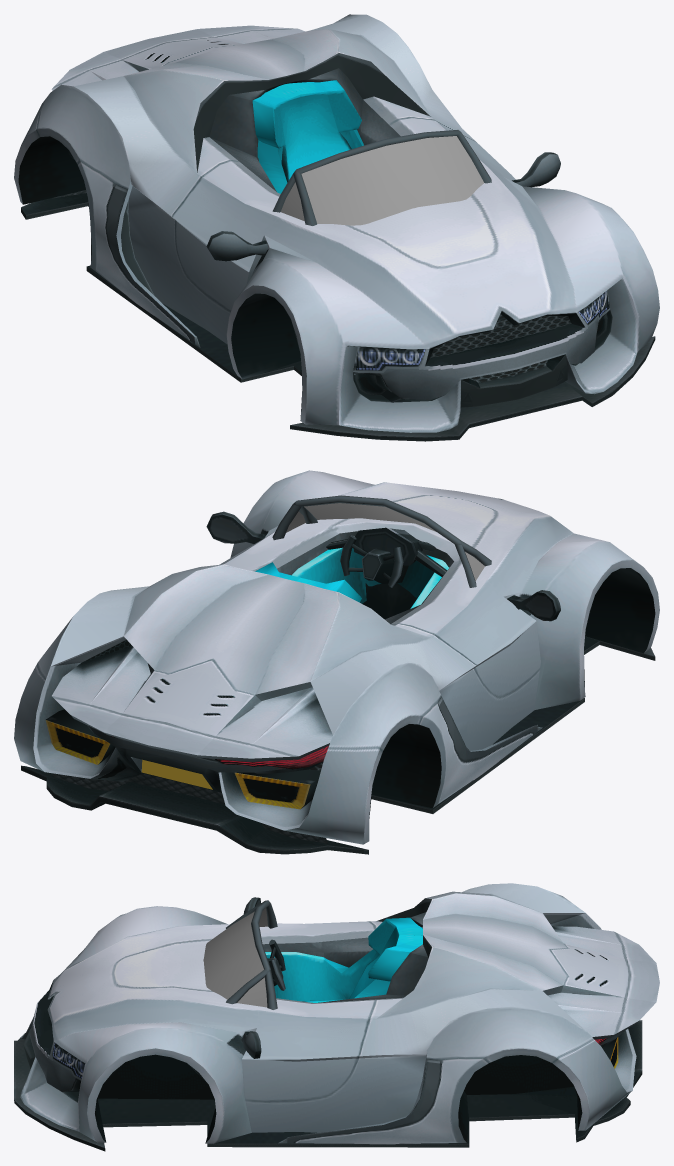
The model's file is car_mod.FBX.
3 views of the same model, one above another, from view 1: azimuth 30°, elevation 25°; view 2: azimuth 150°, elevation 25°; view 3: azimuth 270°, elevation 25° (orthographic). The views are drawn at different scales.
Visible parts, largest first — view 1: car_08_01, car_08_02, car_08_03; view 2: car_08_01, car_08_02, car_08_03; view 3: car_08_01, car_08_02, car_08_03.
Part boxes in pixels (box(x1,y1,x2,y2)): car_08_01: box(14, 14, 659, 441); car_08_02: box(206, 80, 560, 261); car_08_03: box(280, 136, 483, 225); car_08_01: box(14, 470, 659, 854); car_08_02: box(206, 495, 560, 621); car_08_03: box(286, 503, 484, 580); car_08_01: box(14, 883, 659, 1151); car_08_02: box(226, 897, 422, 1058); car_08_03: box(203, 908, 267, 1007).
Bounding box in the file's own units: 266 × 126 × 476.
